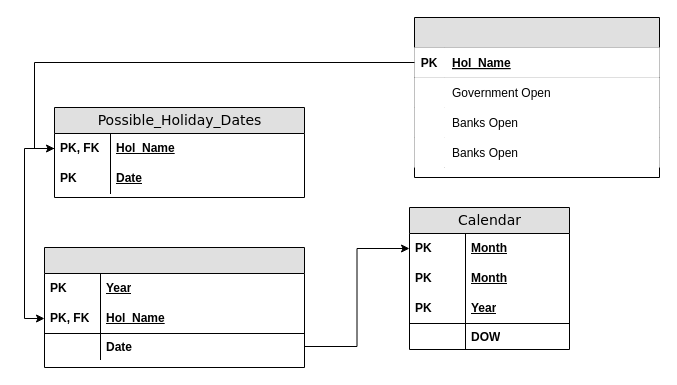
The diagram is 677 pixels wide and 385 high, and some of its shapes have lost their labels. The box of each missing label's shape, as (x1, y1, x2, y2) in pixels:
Business Affected Holidays: (414, 16, 660, 178)
Holiday_Date_By_Year: (44, 246, 304, 368)
